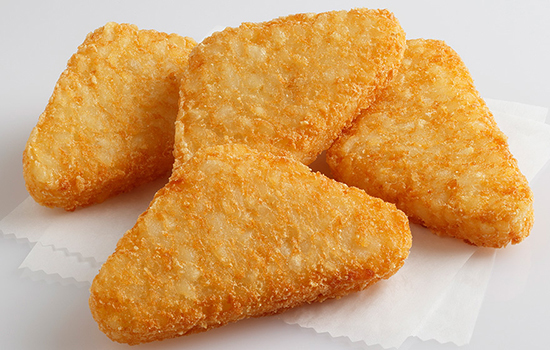triangle_hash_brown: (28, 25, 525, 336)
